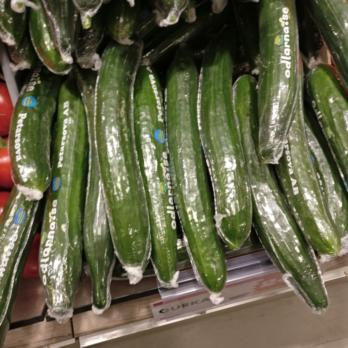Cucumber: (8, 0, 345, 257)
